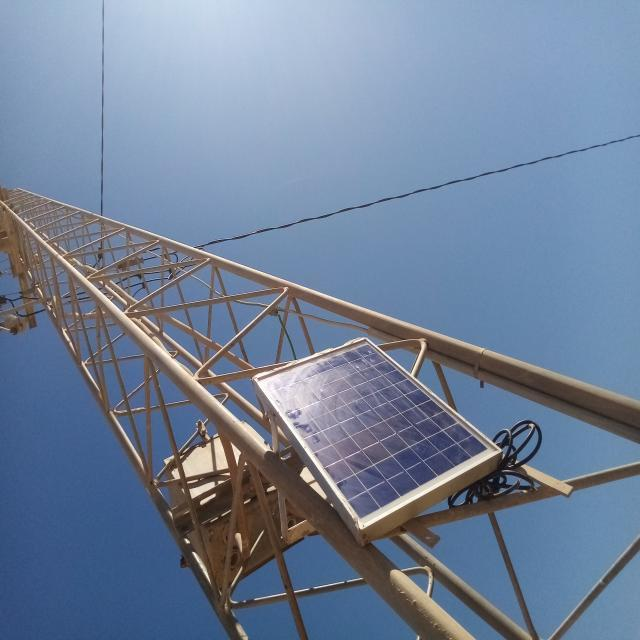no faulty: (256, 337, 501, 528)
